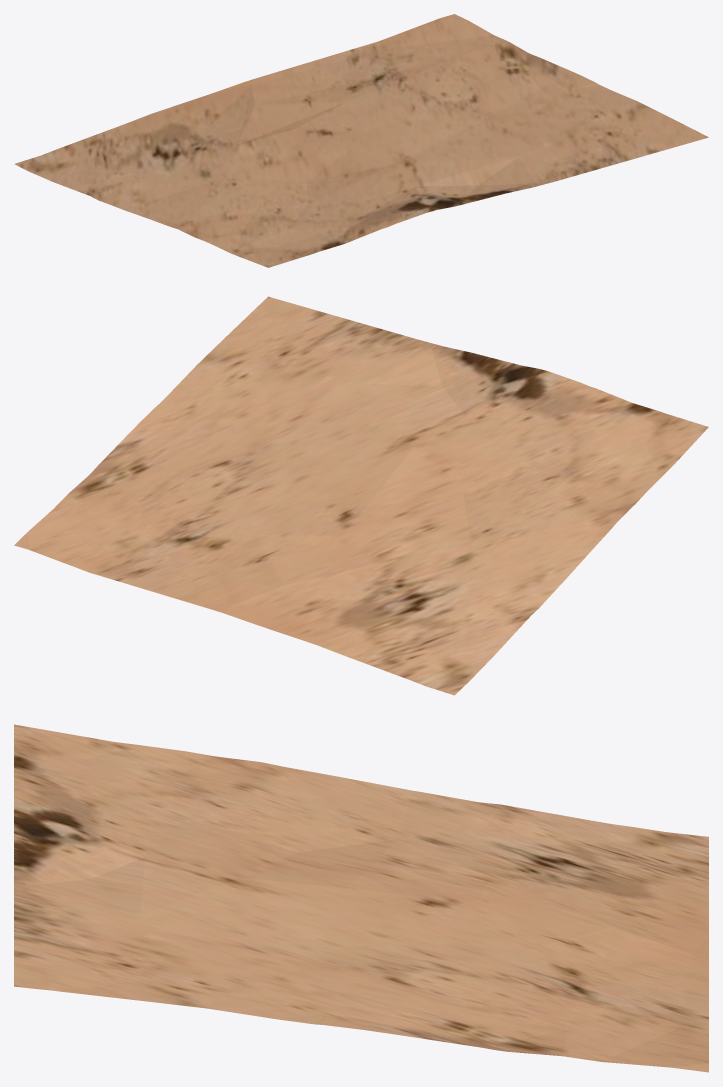
3 renders of one model, top to bottom at view 1: azimuth 30°, elevation 25°; view 2: azimuth 150°, elevation 25°; view 3: azimuth 270°, elevation 25°, orthographic. The views are drawn at different scales.
Bounding box in the file's own units: 2.09 × 0.4773 × 2.09.
Materials: 3 (3 with a texture image).
